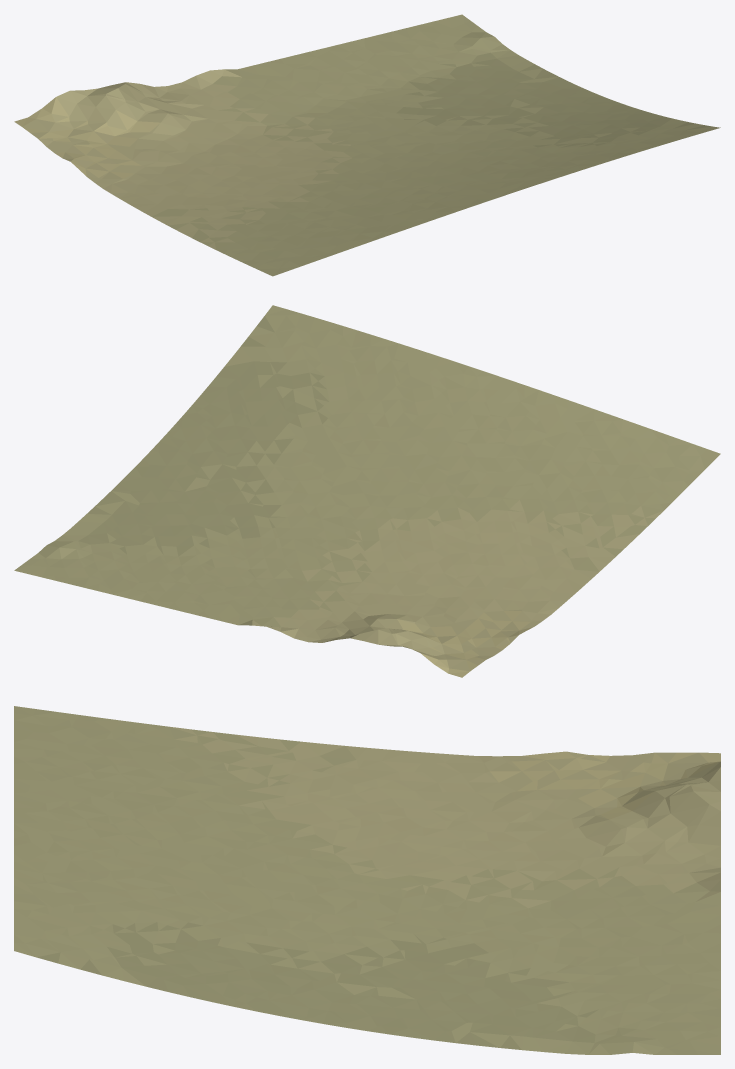
Rendered from Ground_5_5.glb.
3 views of the same model, one above another, from view 1: azimuth 30°, elevation 25°; view 2: azimuth 150°, elevation 25°; view 3: azimuth 270°, elevation 25° (orthographic). The views are drawn at different scales.
Parts seen in each view (by area): view 1: Ground_5_5; view 2: Ground_5_5; view 3: Ground_5_5.
Part boxes in pixels (x1,y1,x2,y2): Ground_5_5: (14,14,720,276); Ground_5_5: (14,305,720,677); Ground_5_5: (14,706,720,1054).
Bounding box in the file's own units: 768 × 125 × 768.
